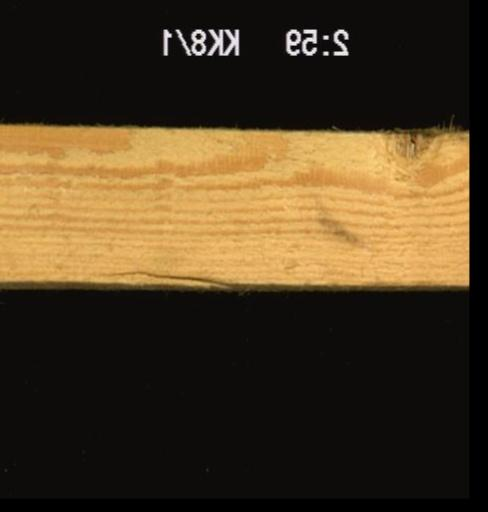edge_knot: (385, 131, 437, 172)
split: (95, 268, 236, 287)
